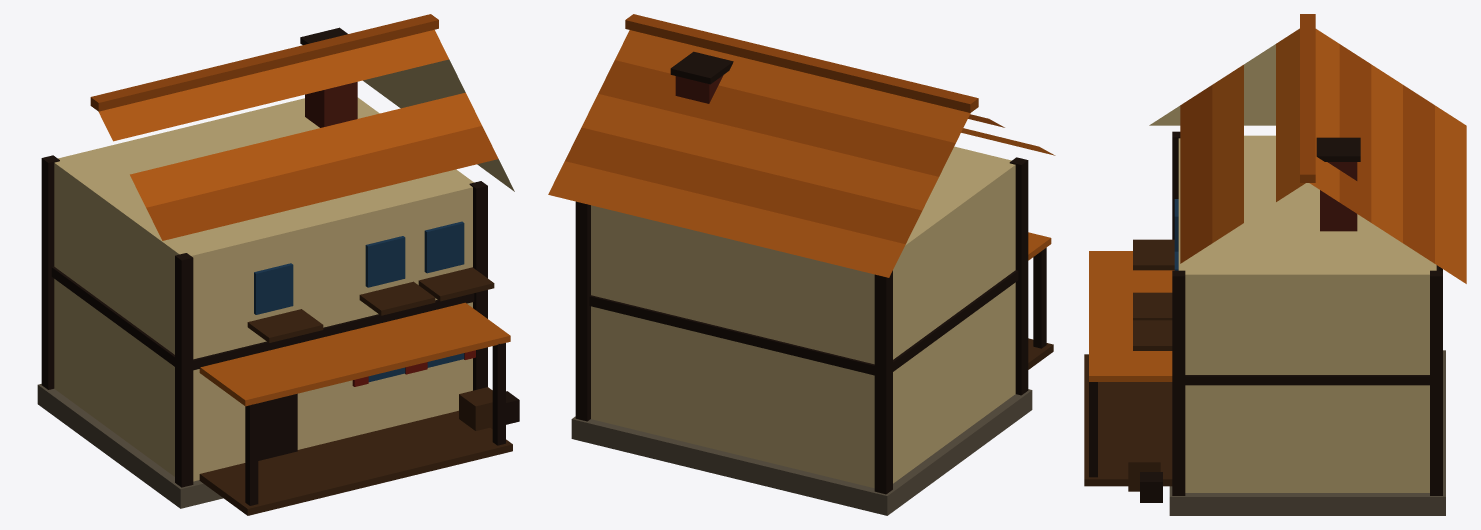
The model's file is coast-house-b.glb.
3 renders of one model, left to right at view 1: azimuth 30°, elevation 25°; view 2: azimuth 150°, elevation 25°; view 3: azimuth 270°, elevation 25°, orthographic. The views are drawn at different scales.
Parts seen in each view (by area): view 1: house-b; view 2: house-b; view 3: house-b.
Boxes of the visible parts, box(x1,y1,x2,y2) form: house-b: box(37, 14, 519, 515); house-b: box(548, 14, 1055, 515); house-b: box(1084, 14, 1466, 515).
Bounding box in the file's own units: 8.19 × 8.29 × 8.25.
